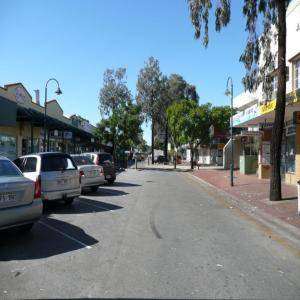Vehicle-registration-plate: (1, 194, 17, 204), (58, 180, 69, 186), (107, 176, 111, 179)
